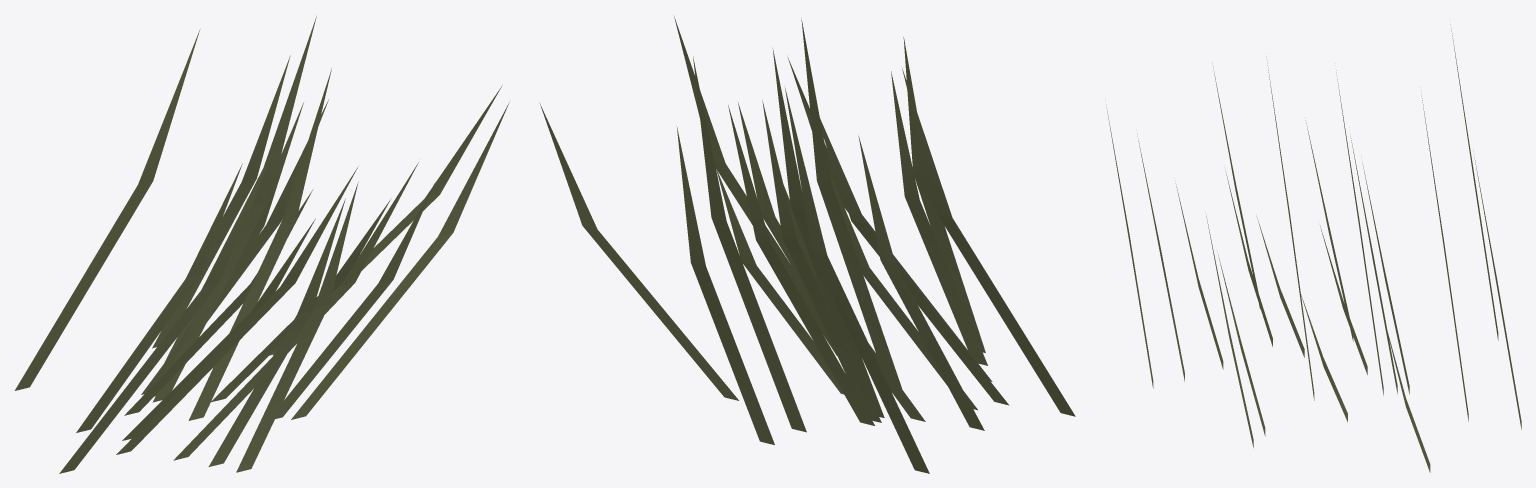
The model's file is iron-sedge.glb.
3 views of the same model, side by side, from view 1: azimuth 30°, elevation 25°; view 2: azimuth 150°, elevation 25°; view 3: azimuth 270°, elevation 25° (orthographic). The views are drawn at different scales.
Visible parts, largest first — view 1: Прибрежная осока; view 2: Прибрежная осока; view 3: Прибрежная осока.
Boxes of the visible parts, bbox=[...] form: Прибрежная осока: bbox=[14, 16, 509, 473]; Прибрежная осока: bbox=[539, 16, 1075, 473]; Прибрежная осока: bbox=[1106, 24, 1521, 472].
Bounding box in the file's own units: 1.15 × 0.756 × 0.681.
